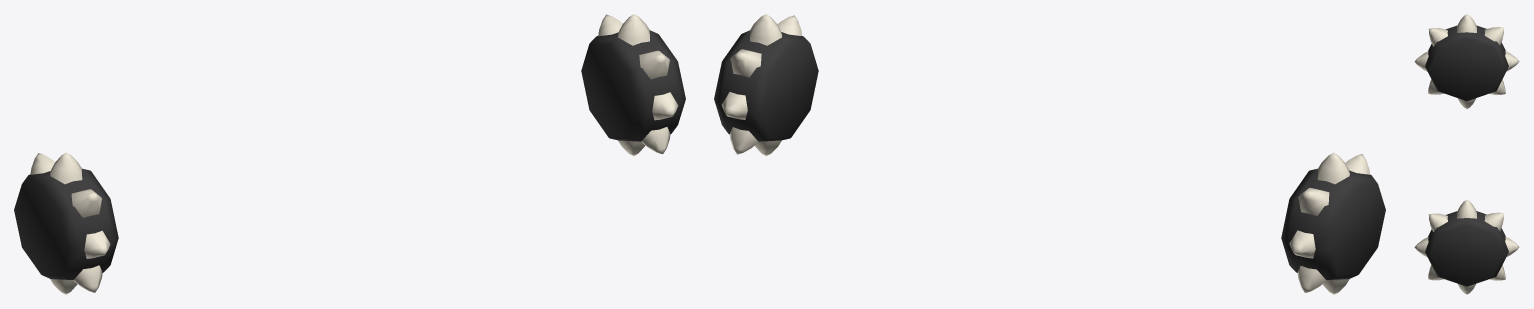
The model's file is Bracelet_1.fbx.
The picture shows the model from 3 angles, left to right: view 1: azimuth 30°, elevation 25°; view 2: azimuth 150°, elevation 25°; view 3: azimuth 270°, elevation 25°; orthographic projection. The views are drawn at different scales.
Visible parts, largest first — view 1: Bracelet_1; view 2: Bracelet_1; view 3: Bracelet_1.
Boxes of the visible parts, box(x1,y1,x2,y2) form: Bracelet_1: box(14, 14, 685, 294); Bracelet_1: box(714, 14, 1385, 294); Bracelet_1: box(1414, 14, 1519, 294).
Bounding box in the file's own units: 96.15 × 21.2 × 21.2.
